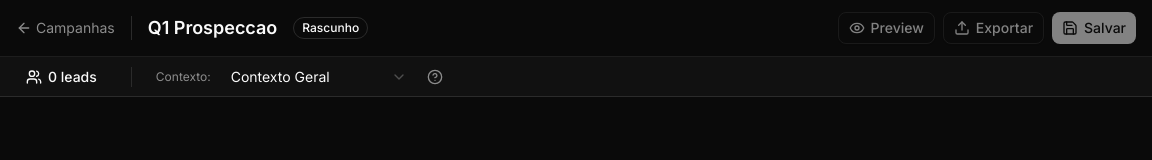
it: BuilderHeader (AC: #4) › Editable Name (AC: #4) › reverts changes when Escape is pressed
This screenshot has width=1152, height=160.
Click the button with test id "campaign-name" at (212, 28), box [148, 14, 277, 42]
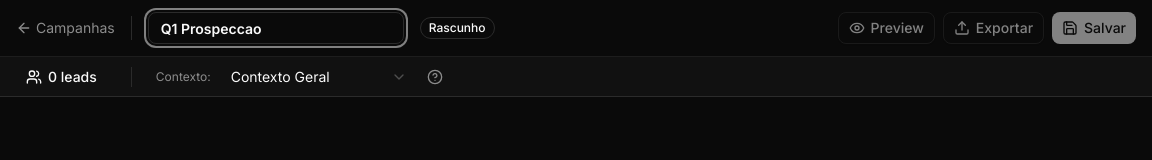
Replace the text in the field with test id "campaign-name-input" with "Novo Nome" at (276, 28), box [148, 12, 404, 44]
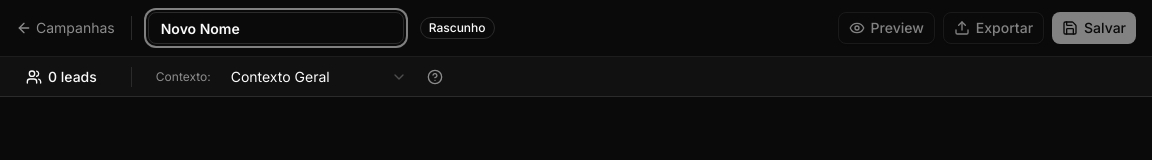
Press Escape in the field with test id "campaign-name-input", box [148, 12, 404, 44]
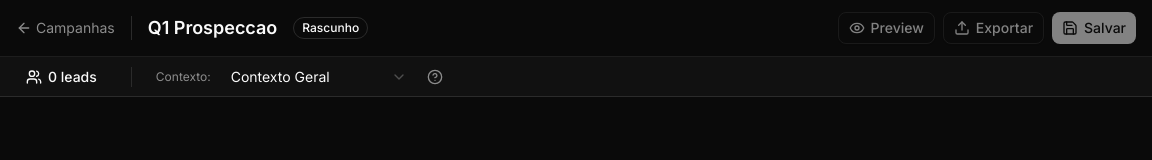
Result: the button with test id "campaign-name" reads "Q1 Prospeccao" at [148, 14, 277, 42]
